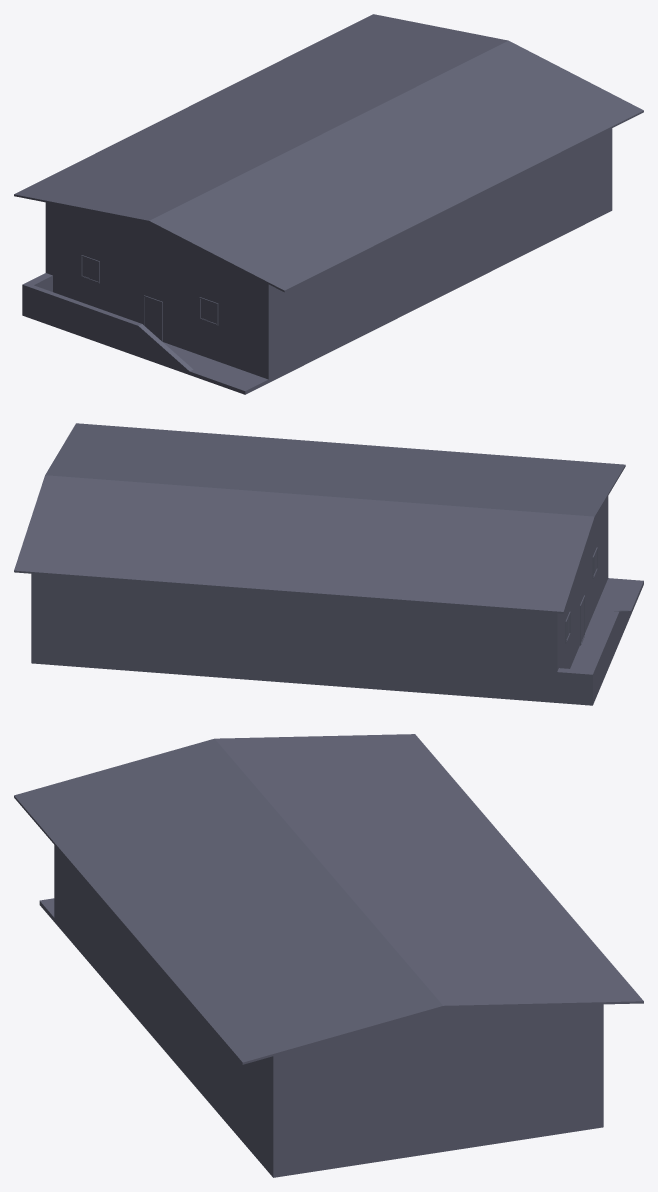
The picture shows the model from 3 angles, top to bottom: view 1: azimuth 30°, elevation 25°; view 2: azimuth 150°, elevation 25°; view 3: azimuth 270°, elevation 25°; orthographic projection. The views are drawn at different scales.
Visible parts, largest first — view 1: P棟(修); view 2: P棟(修); view 3: P棟(修).
Part boxes in pixels (x1,y1,x2,y2): P棟(修): [14, 14, 643, 394]; P棟(修): [14, 423, 643, 705]; P棟(修): [14, 734, 643, 1177].
Size of the model in its own units: 32.7 by 6.95 by 26.01.
